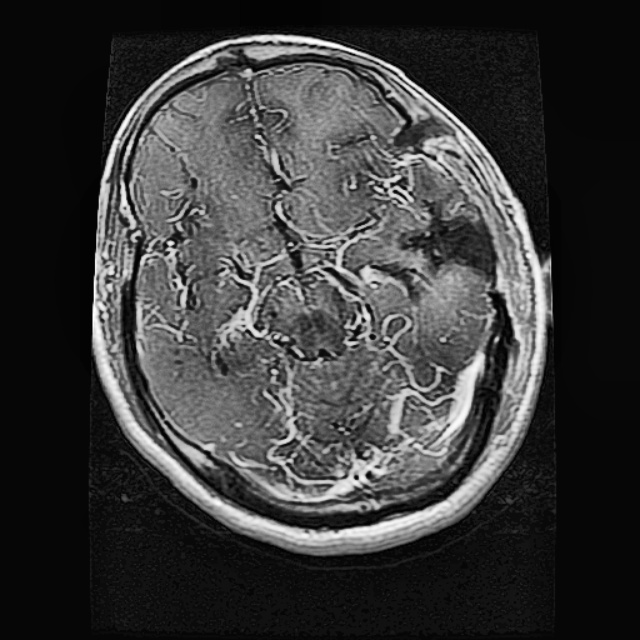Pituitary: (399, 199, 495, 274)
